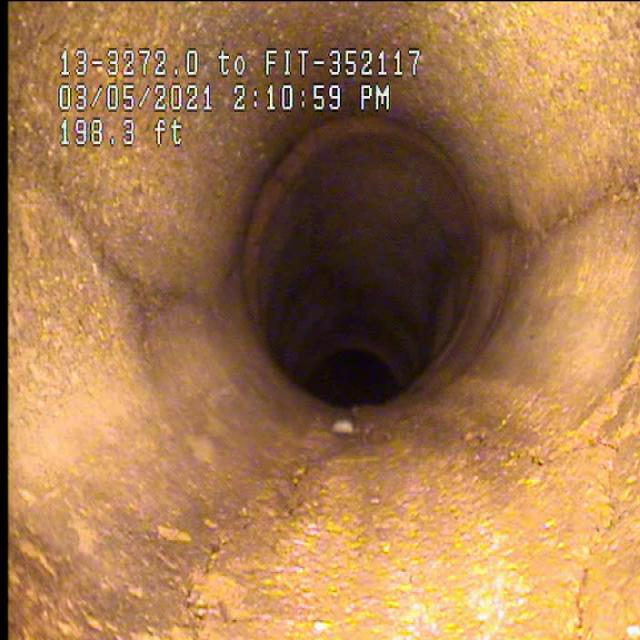Crack: (458, 397, 630, 597), (497, 177, 632, 277)
